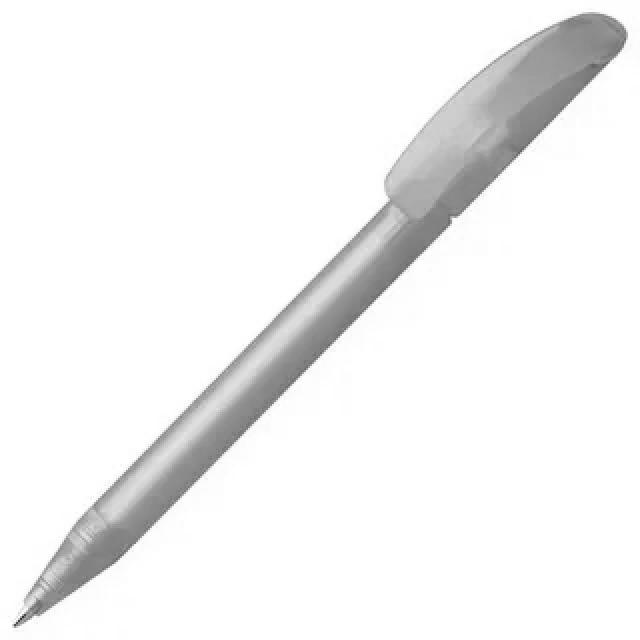pen: (8, 11, 631, 628)
